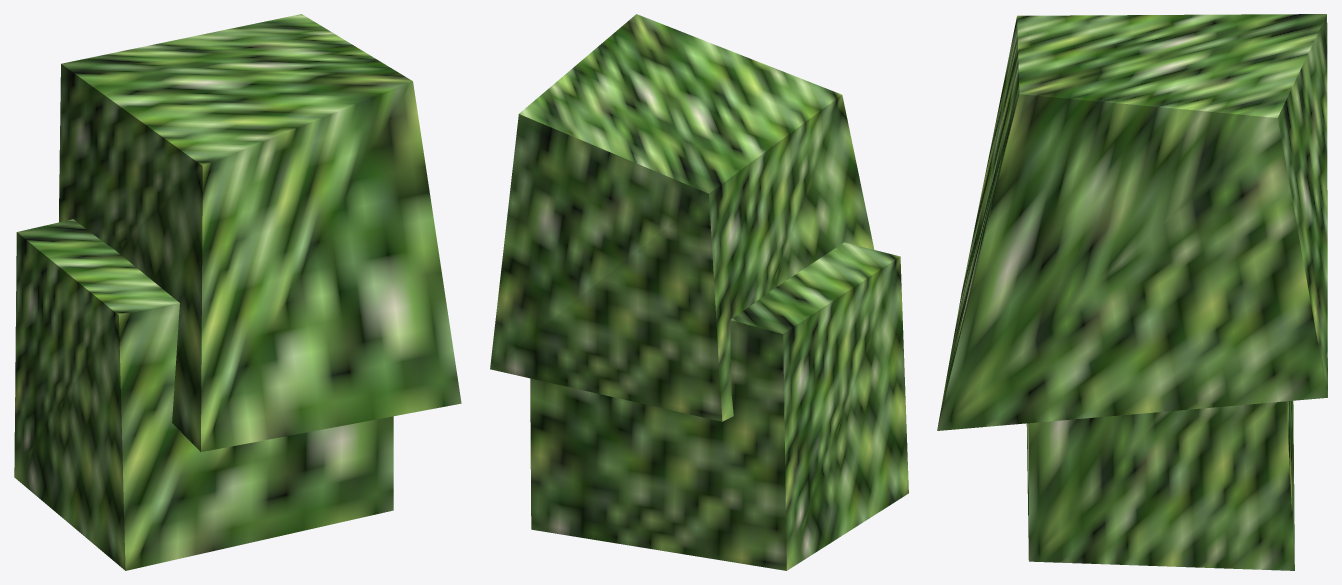
The model's file is Hojas3.obj.
The picture shows the model from 3 angles, left to right: view 1: azimuth 30°, elevation 25°; view 2: azimuth 150°, elevation 25°; view 3: azimuth 270°, elevation 25°; orthographic projection. The views are drawn at different scales.
Visible parts, largest first — view 1: Cube, Cube1; view 2: Cube, Cube1; view 3: Cube, Cube1.
Boxes of the visible parts, box(x1,y1,x2,y2) form: Cube: box(59, 14, 461, 451); Cube1: box(14, 219, 393, 570); Cube: box(490, 14, 874, 421); Cube1: box(530, 242, 908, 570); Cube: box(937, 14, 1327, 430); Cube1: box(1026, 401, 1294, 570).
Size of the model in its own units: 2.14 by 3.01 by 2.2.
Materials: 4 (4 with a texture image).
